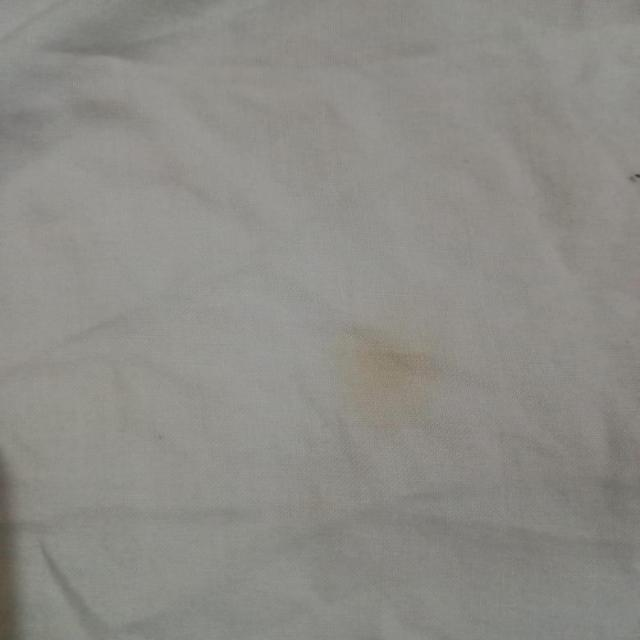stain: (322, 327, 458, 427)
